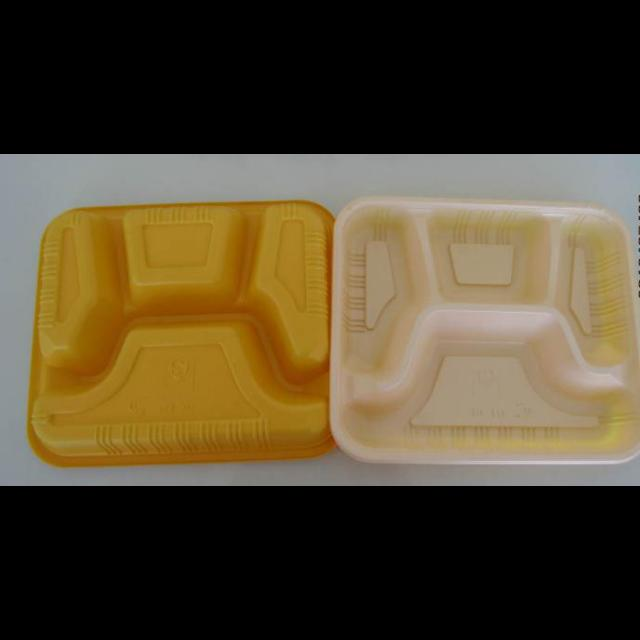plastic_box: (24, 192, 338, 470), (327, 193, 639, 465)
